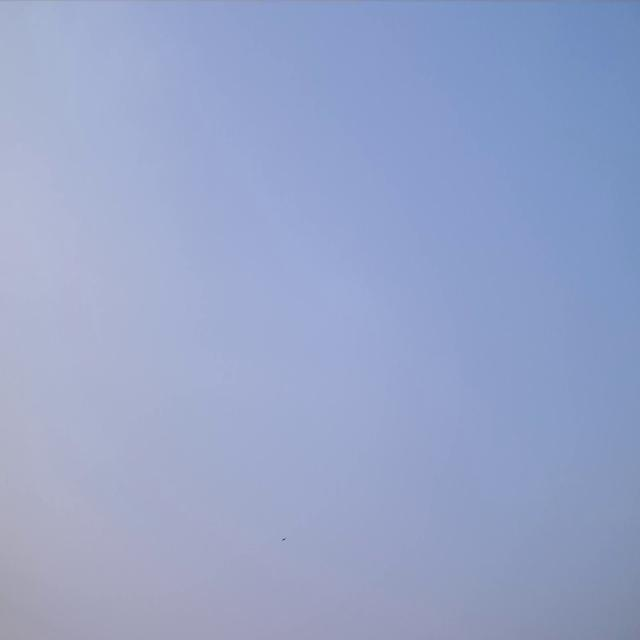UAV: (282, 536, 286, 542)
